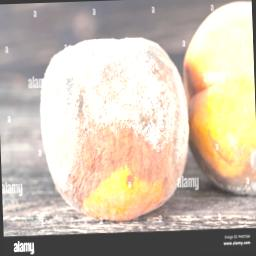Peach Rotten: (30, 32, 191, 225), (178, 5, 256, 192)
